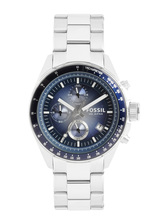watch: (29, 12, 140, 214)
